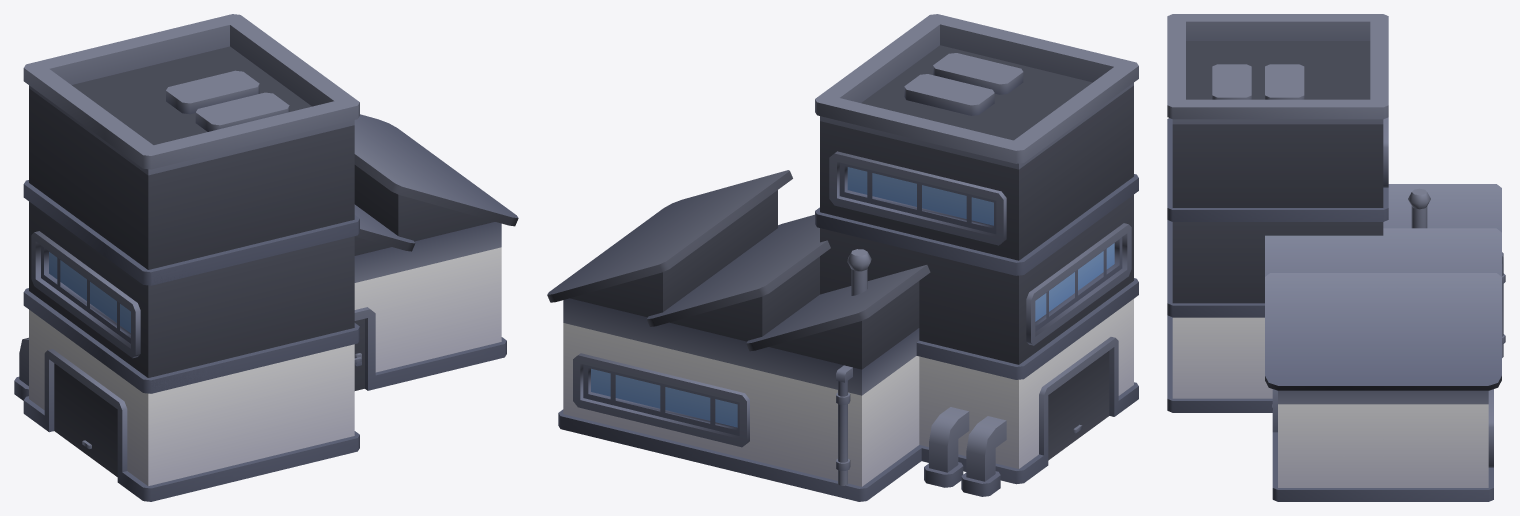
File: building-g_lev1.glb
3 views of the same model, side by side, from view 1: azimuth 30°, elevation 25°; view 2: azimuth 150°, elevation 25°; view 3: azimuth 270°, elevation 25° (orthographic). The views are drawn at different scales.
Visible parts, largest first — view 1: building-g_lev1; view 2: building-g_lev1; view 3: building-g_lev1.
Part boxes in pixels (x1=…): building-g_lev1: x1=14, y1=14, x2=518, y2=501; building-g_lev1: x1=547, y1=14, x2=1138, y2=501; building-g_lev1: x1=1167, y1=14, x2=1505, y2=501.
Size of the model in its own units: 12.23 by 9.33 by 9.36.
1 material, 1 textured.
